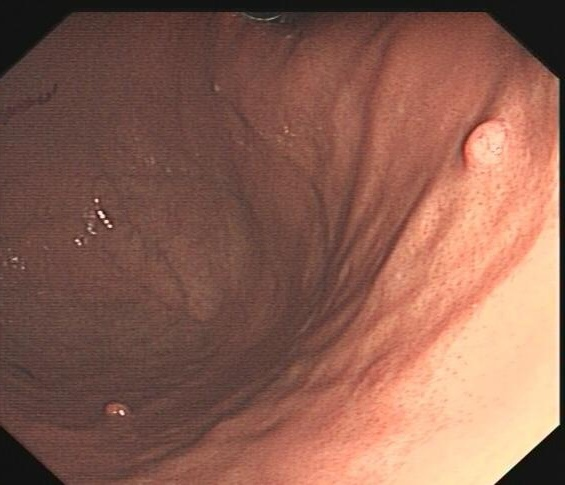Polyp: (462, 119, 516, 182)
